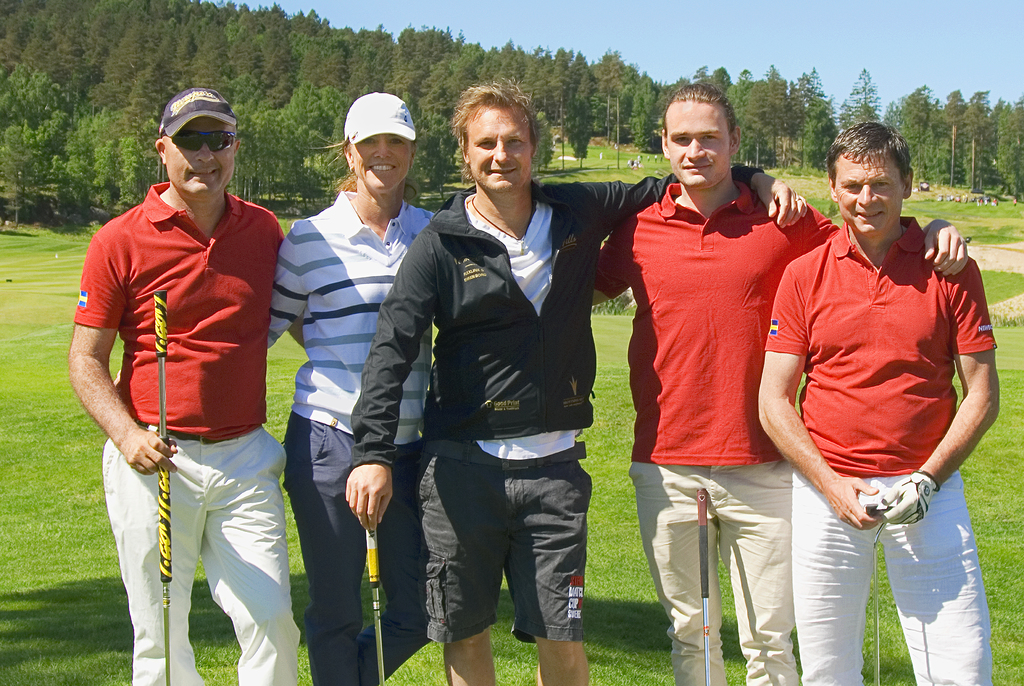Tree: (0, 0, 1023, 229)
